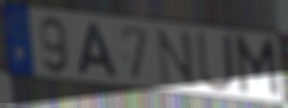7: (120, 24, 150, 82)
9: (38, 14, 70, 75)
A: (75, 21, 121, 80)
M: (232, 33, 283, 101)
N: (155, 27, 198, 90)
U: (194, 30, 237, 94)
